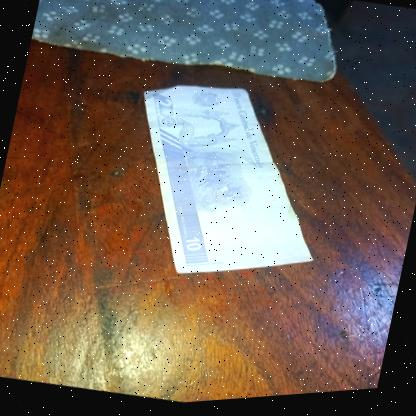ten-back-vef: (98, 63, 346, 309)
